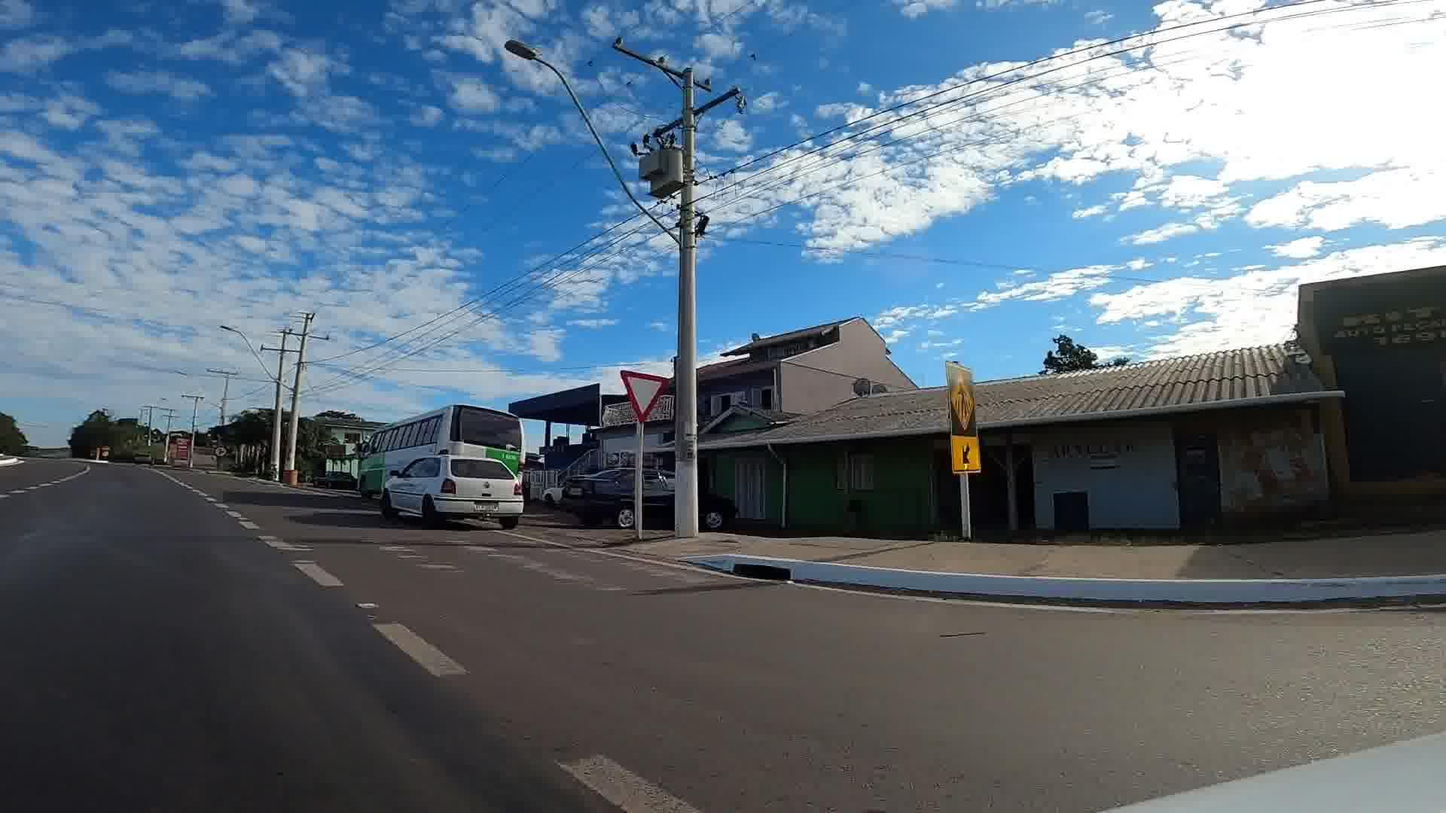R-2: (619, 367, 670, 425)
